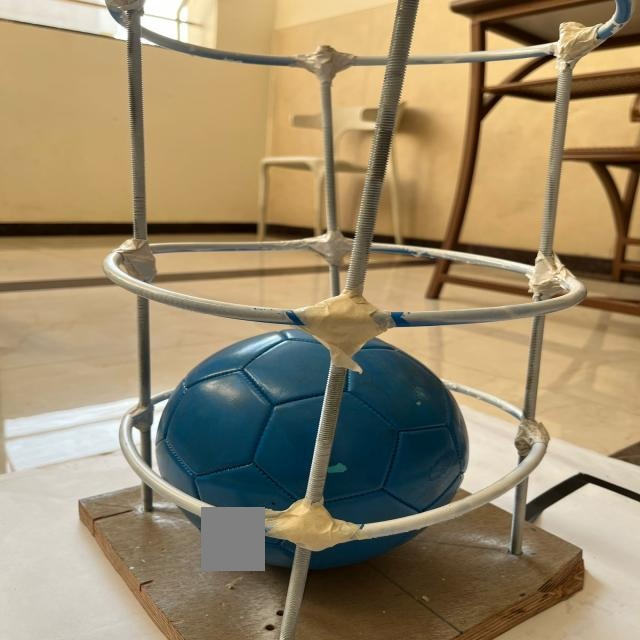blue_ball: (144, 315, 489, 583)
silo: (68, 0, 612, 640)
